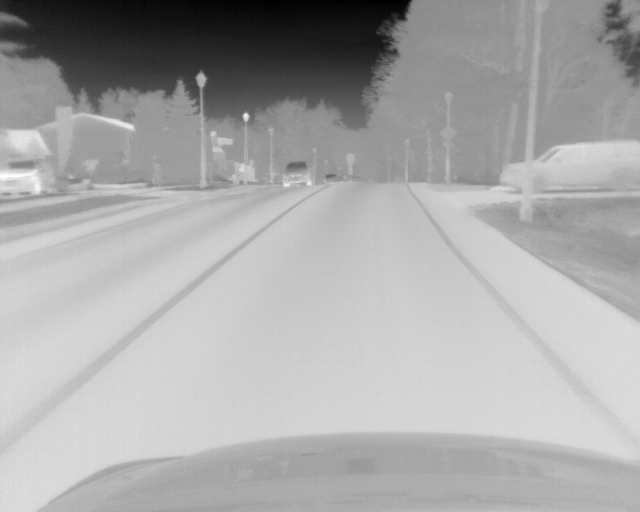car: (499, 138, 640, 191), (3, 160, 56, 194), (282, 161, 311, 187), (324, 173, 338, 184)
